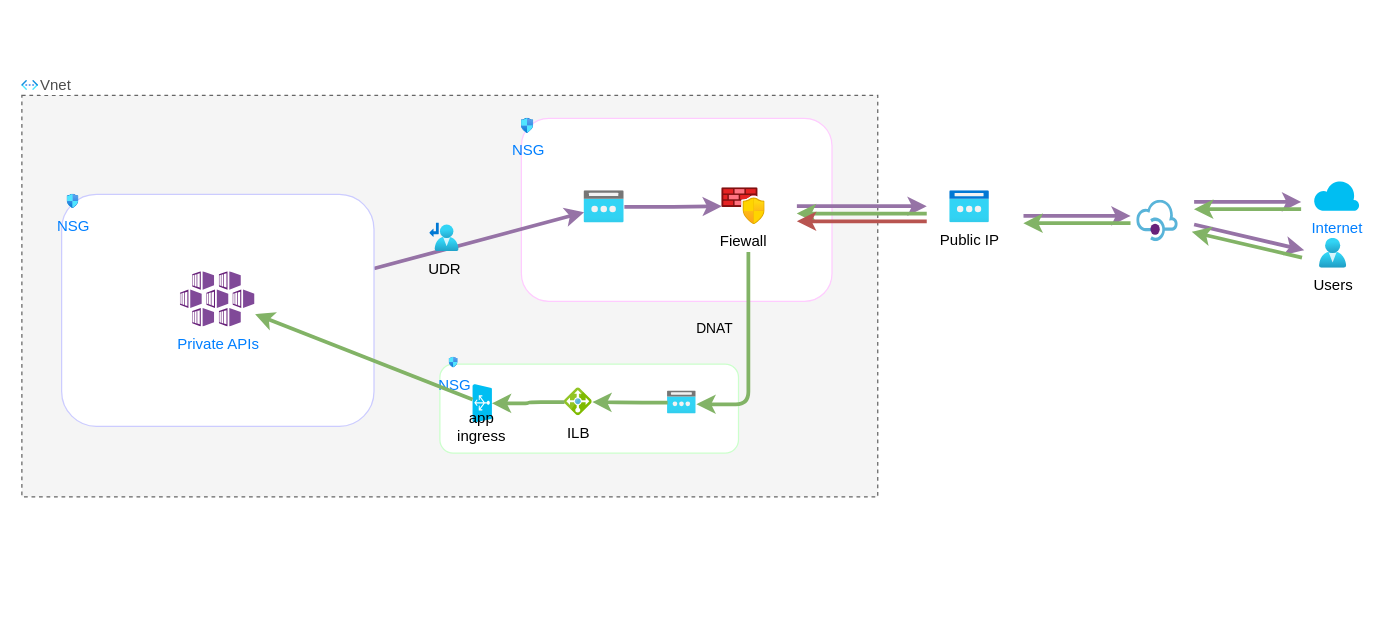
This 1384x618 diagram has some shape labels left out. The shapes that lost their labels are listed below. From the top down, each one's centre as x and y in pixels, then its label:
At (x=604, y=206): "Internal outbound IP".
At (x=1157, y=220): "Api Management".
At (x=681, y=401): "app internal IP".
